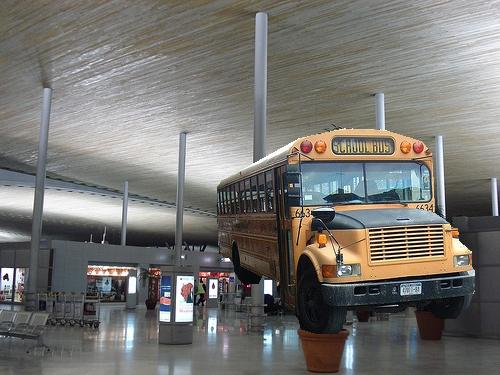tampered: (217, 129, 475, 334)
